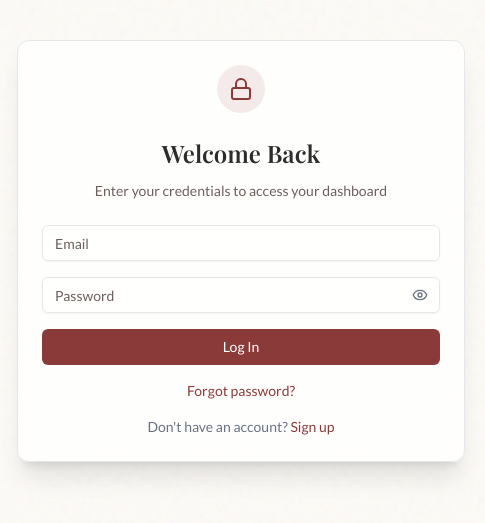
Test: LoginPage › Form Validation › should show error when email is empty
Click the button "Log In" at (241, 347), box 42,329 -> 440,365
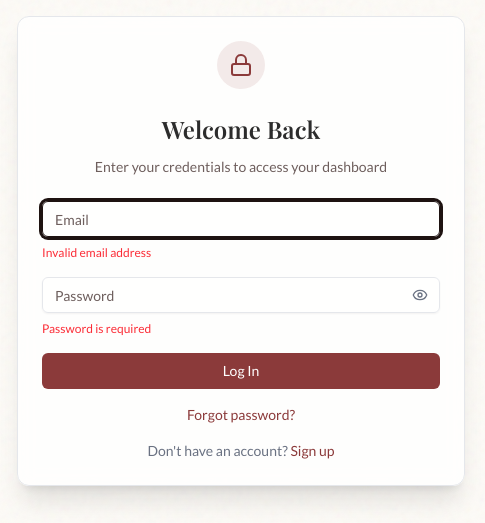
Check: the text "Invalid email address" is shown, box 42,245 -> 151,260
